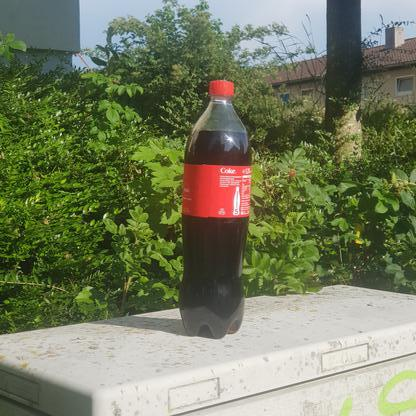coca-cola: (179, 78, 252, 338)
